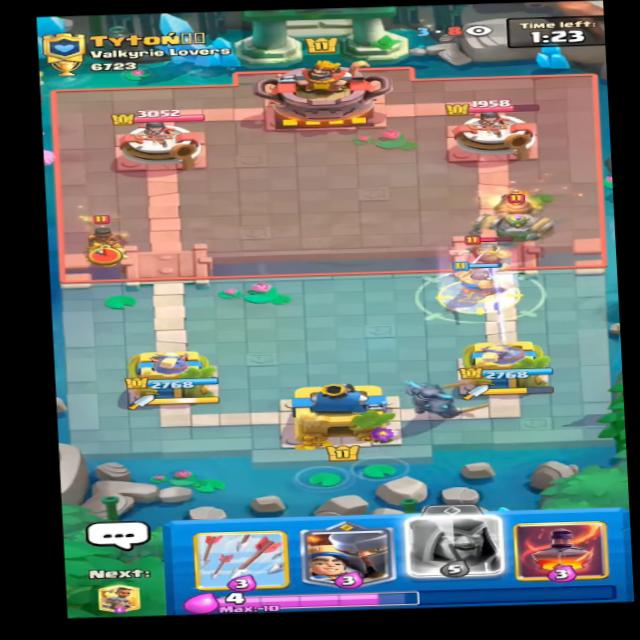goblin-machine: (468, 189, 560, 252)
knight: (449, 232, 531, 277)
ram-rider: (77, 211, 137, 267)
